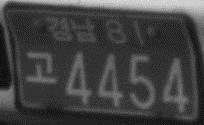1: (129, 17, 148, 49)
4: (161, 55, 190, 113), (63, 49, 93, 105), (96, 52, 125, 108)
5: (128, 53, 155, 109)
8: (103, 17, 129, 45)
경남_O: (44, 15, 98, 44)
고: (24, 49, 59, 84)
